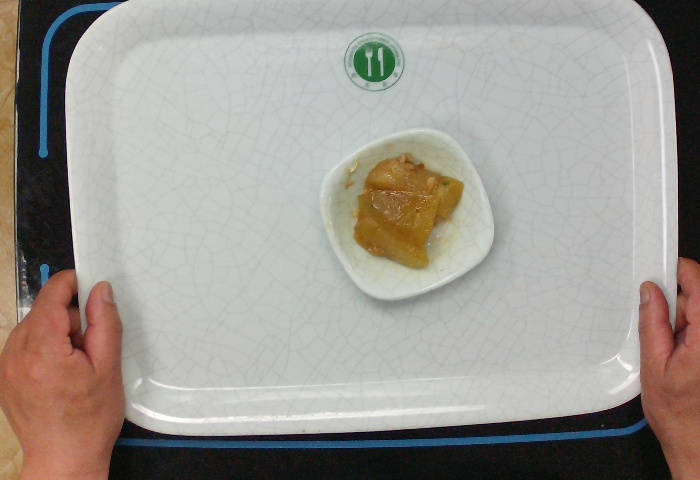JYsf-Si_Fang_Die: (314, 123, 500, 304)
